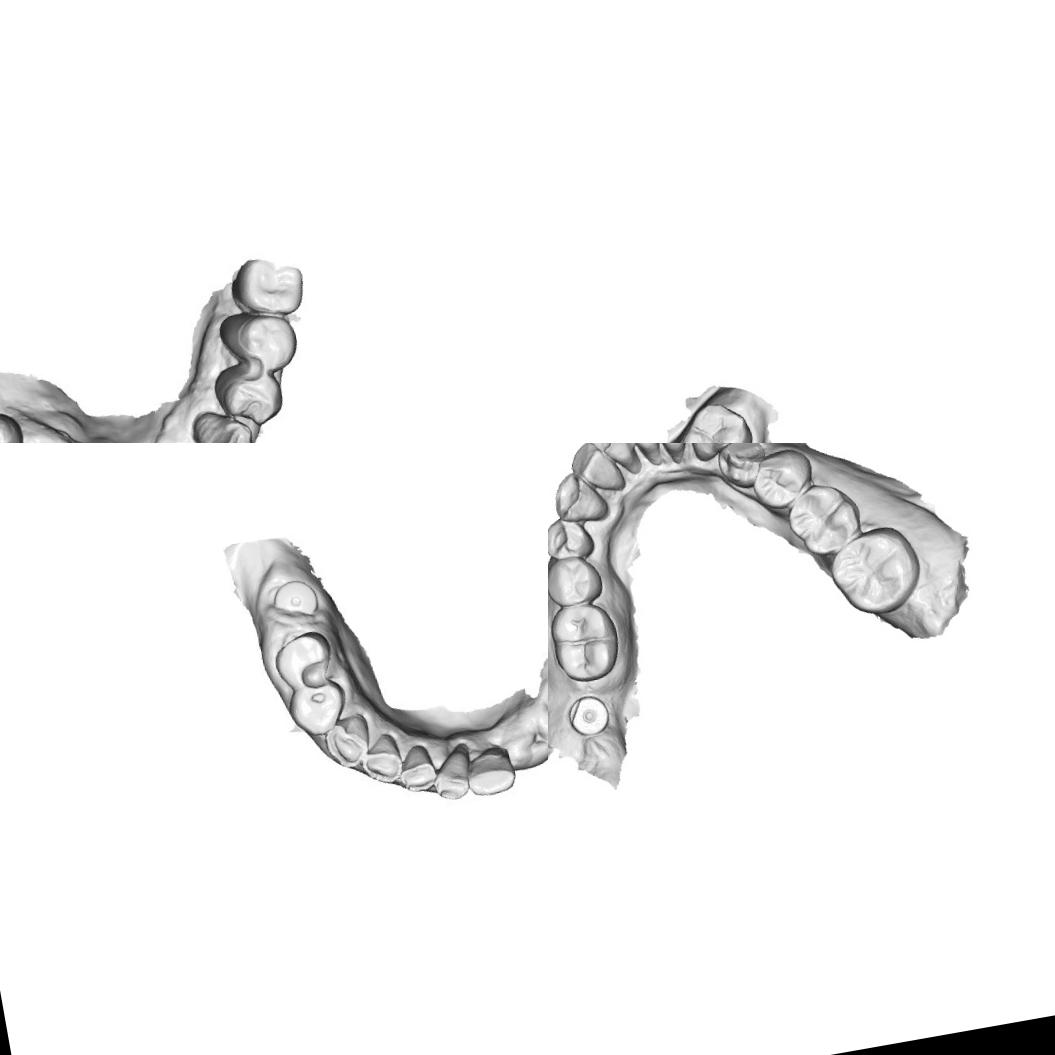canine: (548, 465, 610, 527), (188, 404, 258, 443), (681, 443, 740, 464)
implant: (267, 572, 325, 628), (562, 690, 612, 738)
incisor: (564, 443, 629, 500), (322, 714, 376, 773), (465, 740, 516, 796), (433, 745, 473, 798), (395, 742, 438, 791), (586, 443, 641, 480), (362, 732, 401, 781), (612, 443, 663, 480), (646, 443, 695, 465)
molar: (822, 519, 928, 619), (782, 476, 866, 562), (548, 597, 624, 687), (224, 249, 308, 324), (671, 394, 759, 443)
premolar: (215, 303, 302, 380), (210, 357, 287, 432), (745, 446, 818, 512), (288, 676, 352, 737), (273, 630, 336, 689), (548, 550, 602, 609), (710, 443, 769, 491), (548, 513, 597, 565)
